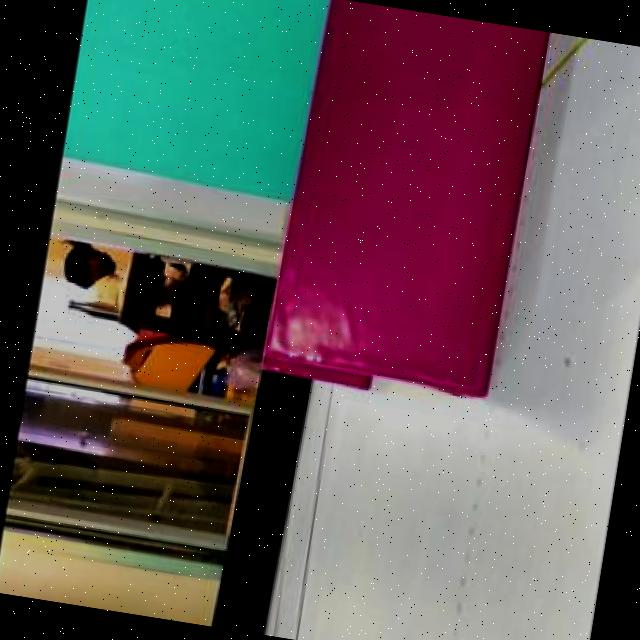xparking: (274, 7, 546, 388)
